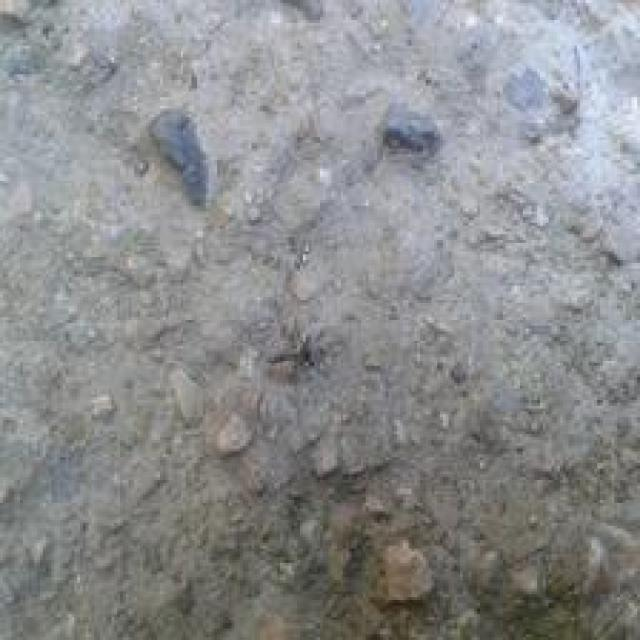Aedes albopictus: (147, 105, 213, 208)
